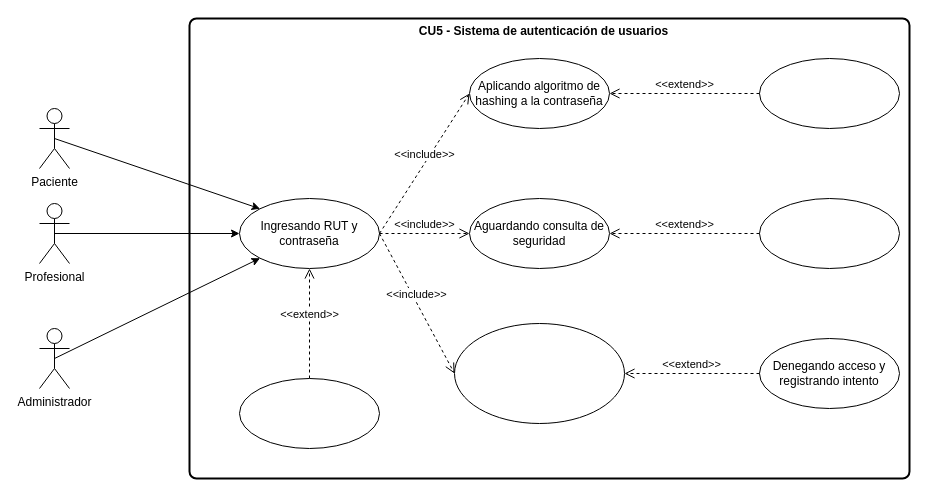
The diagram is 927 pixels wide and 496 high, and some of its shapes have lost their labels. The shapes that lost their labels are listed below. From the top down, each one's box as (x1, y1, x2, y2) in pixels, then its label:
(758, 58, 900, 128): Notificando servicio de criptografía no disponible
(758, 198, 900, 268): Informando indisponibilidad del servicio
(454, 322, 624, 424): Comparando hash resultante, generando token y registrando sesión del dispositivo
(238, 378, 380, 448): Resaltando error de formato en identificador
